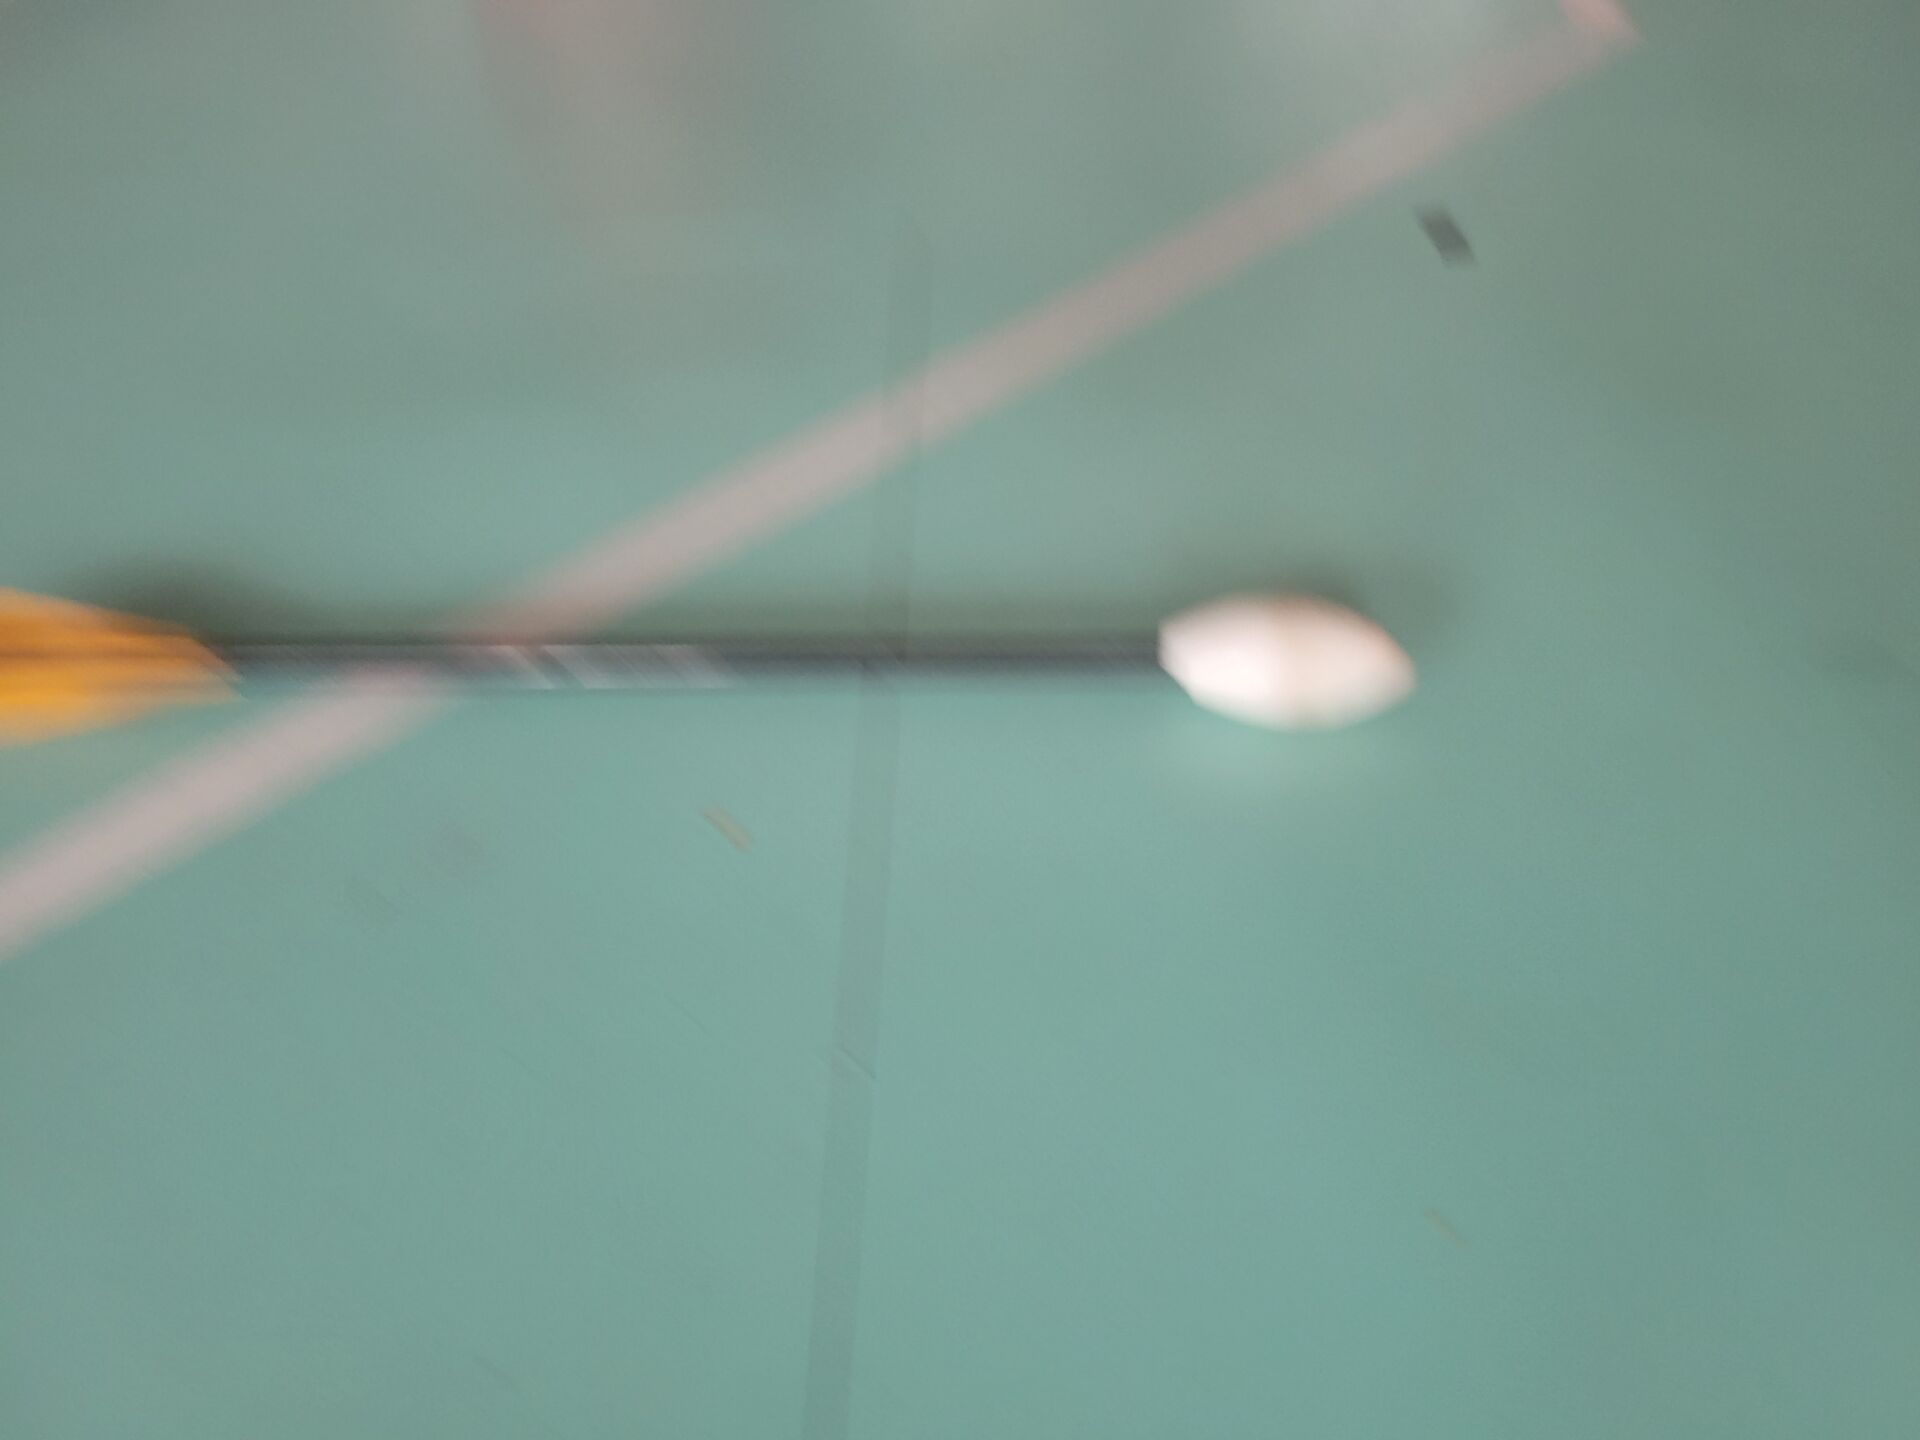arrow: (5, 576, 1420, 746)
arrowFront: (1152, 591, 1420, 734)
